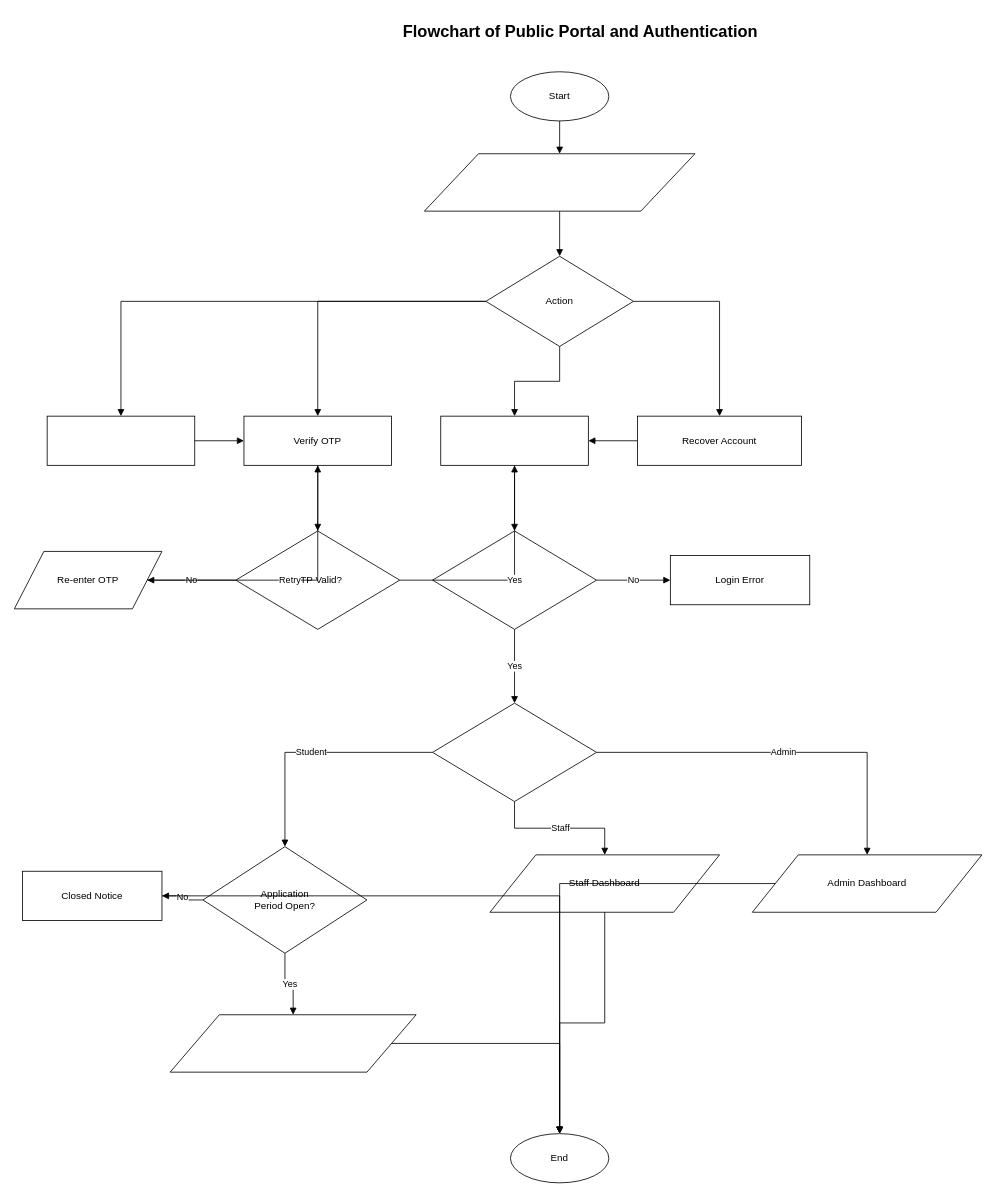
The diagram is 996 pixels wide and 1197 high, and some of its shapes have lost their labels. The centre of each missing label's shape, as x and y in pixels:
Log In: (514,440)
Portal Home: (559,182)
Register: (120,440)
Student Dashboard: (292,1043)
User Role?: (514,752)
Valid Login?: (514,579)
